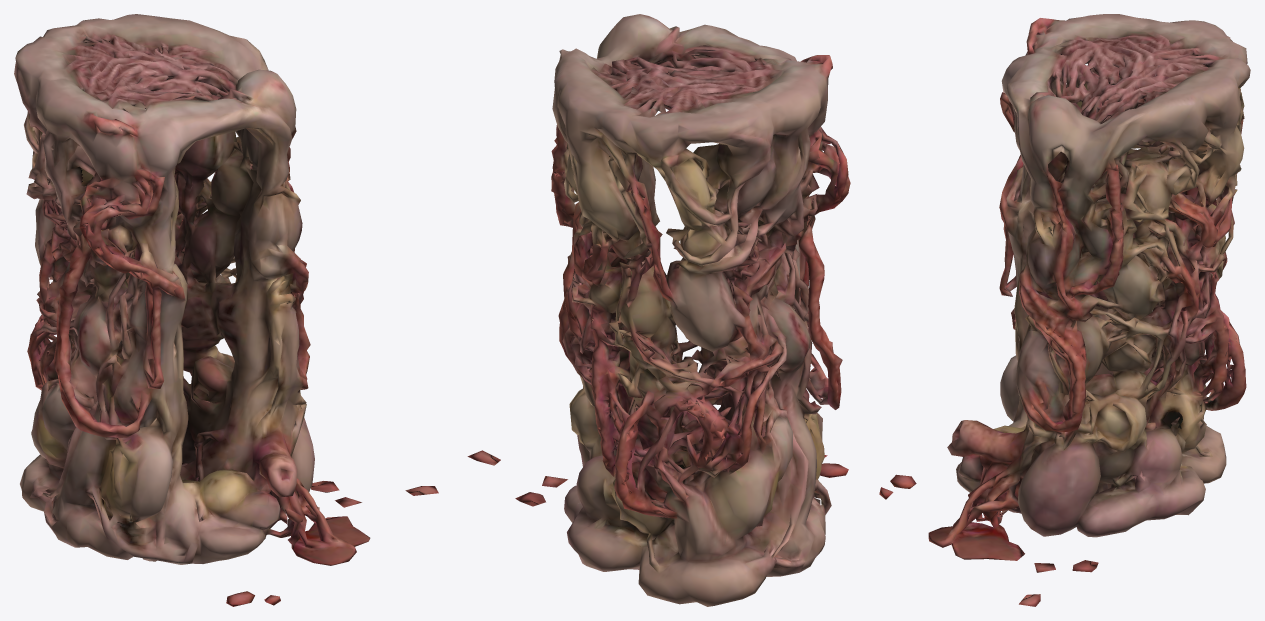
The model's file is a_cylindrical_tower_m_0610182736_texture.fbx.
3 views of the same model, side by side, from view 1: azimuth 30°, elevation 25°; view 2: azimuth 150°, elevation 25°; view 3: azimuth 270°, elevation 25° (orthographic). The views are drawn at different scales.
Visible parts, largest first — view 1: Mesh1; view 2: Mesh1; view 3: Mesh1.
Part boxes in pixels (x1,y1,x2,y2): Mesh1: [14, 14, 438, 606]; Mesh1: [467, 14, 850, 606]; Mesh1: [879, 14, 1250, 606].
Size of the model in its own units: 167 by 199 by 154.
1 material, 1 textured.
